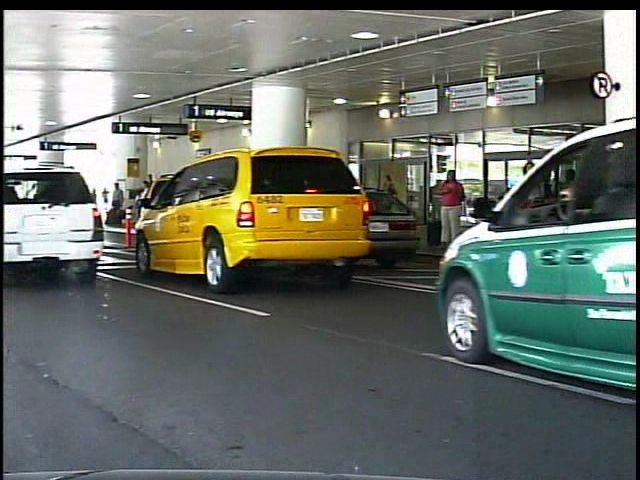person: (521, 158, 549, 262), (440, 166, 469, 252), (385, 171, 409, 234), (113, 179, 129, 229)
